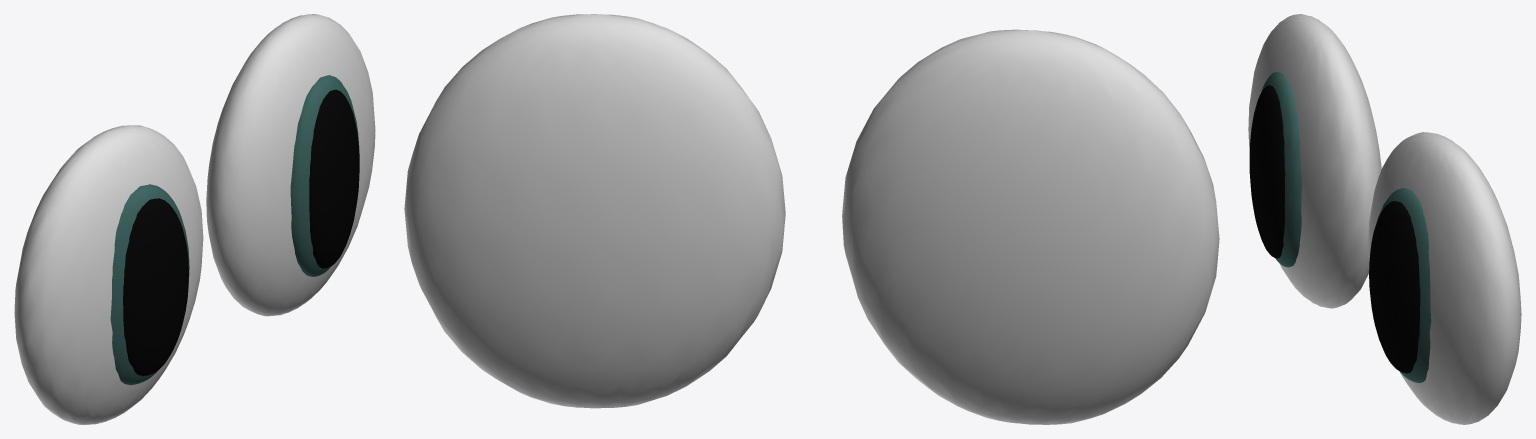
3 renders of one model, left to right at view 1: azimuth 30°, elevation 25°; view 2: azimuth 150°, elevation 25°; view 3: azimuth 270°, elevation 25°, orthographic. The views are drawn at different scales.
Parts seen in each view (by area): view 1: Sphere.002, Sphere_1.002, Sphere_2.002; view 2: Sphere.002; view 3: Sphere.002, Sphere_1.002, Sphere_2.002.
Boxes of the visible parts, x1,y1,x2,y2 form: Sphere.002: (14,14,375,424); Sphere_1.002: (123,89,359,376); Sphere_2.002: (110,75,359,385); Sphere.002: (404,14,1219,424); Sphere.002: (1248,14,1521,424); Sphere_1.002: (1249,85,1420,373); Sphere_2.002: (1261,71,1431,383).
Bounding box in the file's own units: 67.94 × 35.5 × 39.53.
